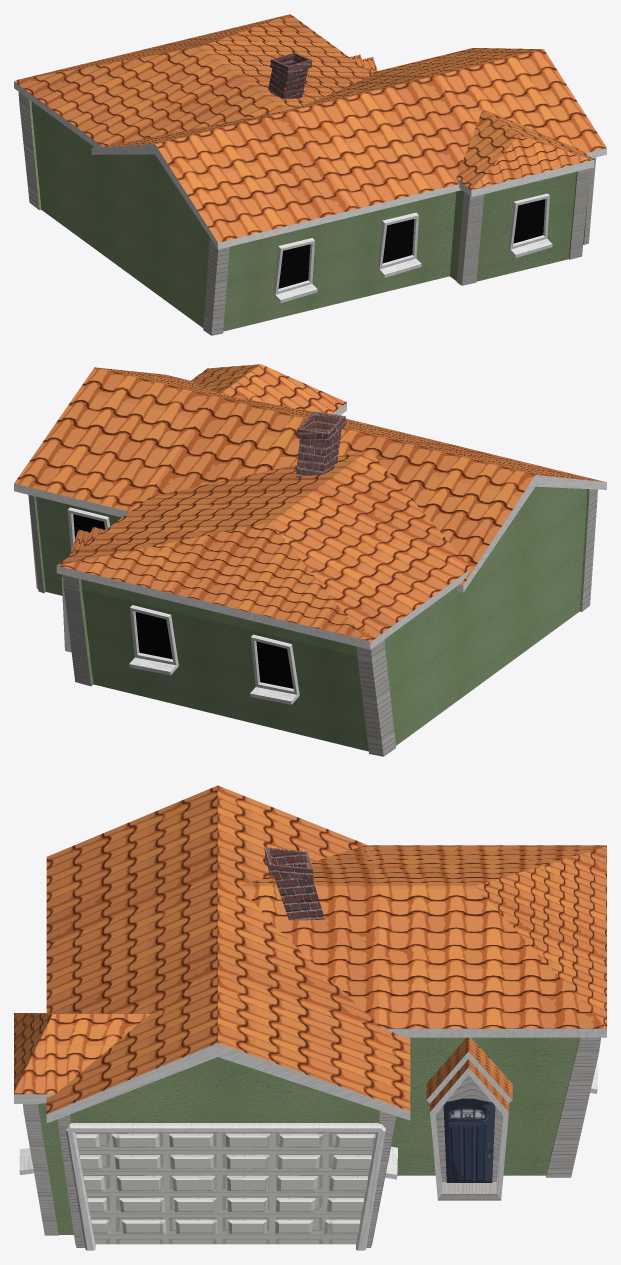
Rendered from HouseBackgroundPropModel  1.fbx.
3 views of the same model, one above another, from view 1: azimuth 30°, elevation 25°; view 2: azimuth 150°, elevation 25°; view 3: azimuth 270°, elevation 25° (orthographic). The views are drawn at different scales.
Parts seen in each view (by area): view 1: Main Building2, Roof2.001, Roof.001, roof3.001, window.002, window.003, window.001, Chimney.001; view 2: Main Building2, Roof.001, Roof2.001, roof3.001, window (×2), Window, Chimney.001; view 3: Roof2.001, Main Building2, Roof.001, roof3.001, Garageedge, door.001, Entrance.001, Chimney.001, Entrance.Roof.002, Entrance.Roof.001.
Boxes of the visible parts, box(x1,y1,x2,y2) form: Main Building2: box(18, 92, 595, 335); Roof2.001: box(91, 48, 606, 249); Roof.001: box(14, 14, 372, 147); roof3.001: box(456, 109, 594, 197); window.002: box(273, 238, 317, 303); window.003: box(377, 212, 421, 277); window.001: box(508, 193, 552, 257); Chimney.001: box(268, 52, 312, 99); Main Building2: box(28, 477, 597, 756); Roof.001: box(56, 450, 471, 649); Roof2.001: box(14, 367, 606, 592); roof3.001: box(190, 364, 346, 415); window (×2): box(67, 507, 178, 675); Window: box(250, 634, 299, 704); Chimney.001: box(296, 411, 345, 476); Roof2.001: box(46, 785, 410, 1123); Main Building2: box(23, 862, 600, 1247); Roof.001: box(239, 845, 606, 1037); roof3.001: box(14, 1013, 149, 1103); Garageedge: box(65, 1123, 385, 1250); door.001: box(443, 1098, 495, 1182); Entrance.001: box(430, 1075, 508, 1200); Chimney.001: box(264, 847, 324, 920); Entrance.Roof.002: box(426, 1037, 512, 1103); Entrance.Roof.001: box(430, 1059, 508, 1115).
Size of the model in its own units: 632 by 615 by 283.
Materials: 8 (7 with a texture image).
